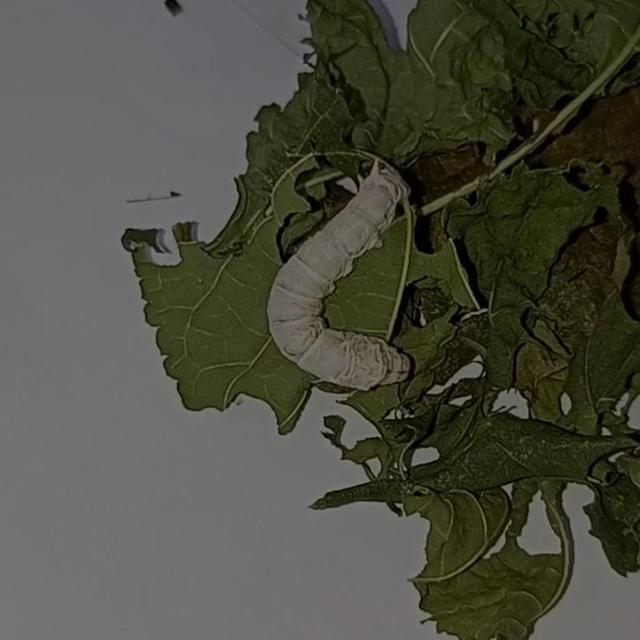Healthy: (234, 132, 450, 422)
